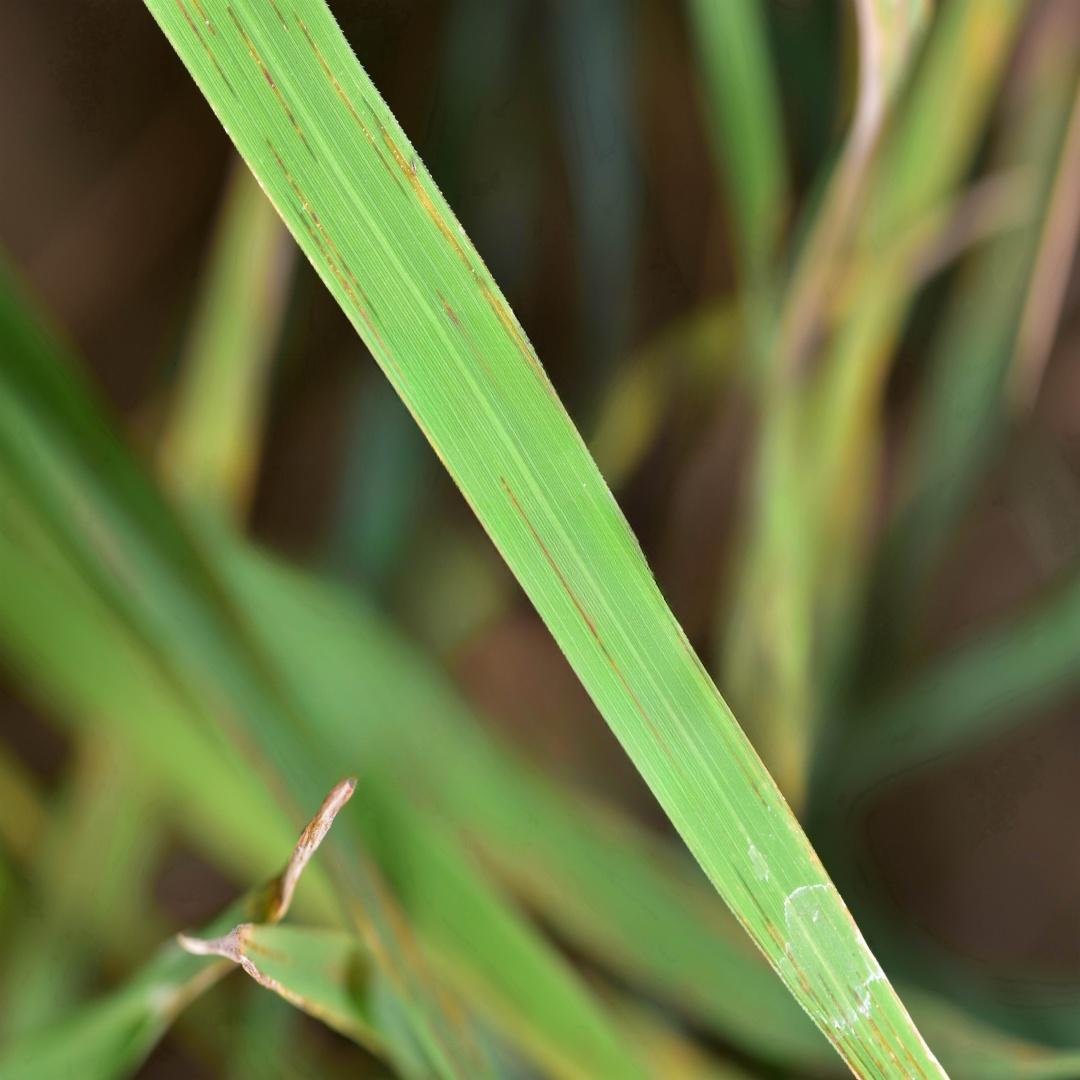BLS: (363, 96, 556, 399), (499, 478, 682, 771), (721, 890, 868, 1079), (285, 197, 418, 404), (294, 14, 415, 209), (265, 139, 382, 326), (732, 866, 833, 1018), (228, 7, 317, 164), (818, 974, 894, 1079), (856, 972, 930, 1079), (174, 0, 237, 99), (848, 984, 913, 1079), (837, 1027, 878, 1079), (758, 918, 794, 972), (435, 290, 465, 330), (794, 976, 821, 1012), (191, 0, 214, 32), (268, 0, 288, 32)
